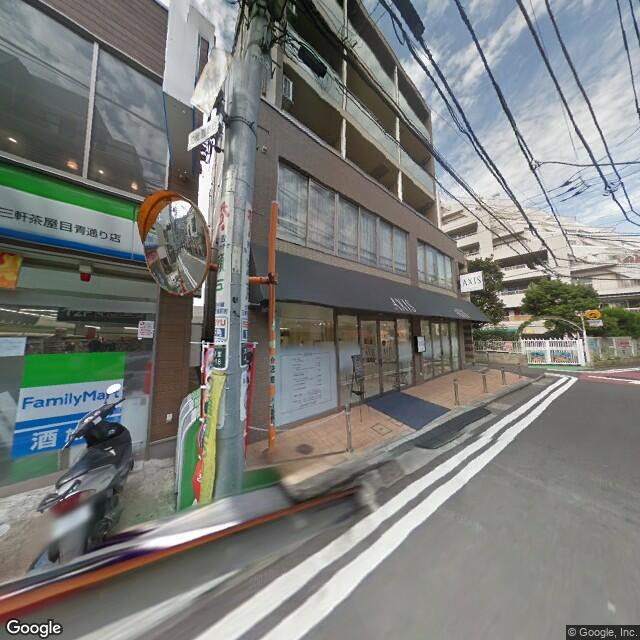family_mart: (1, 162, 142, 266), (12, 345, 124, 431)
